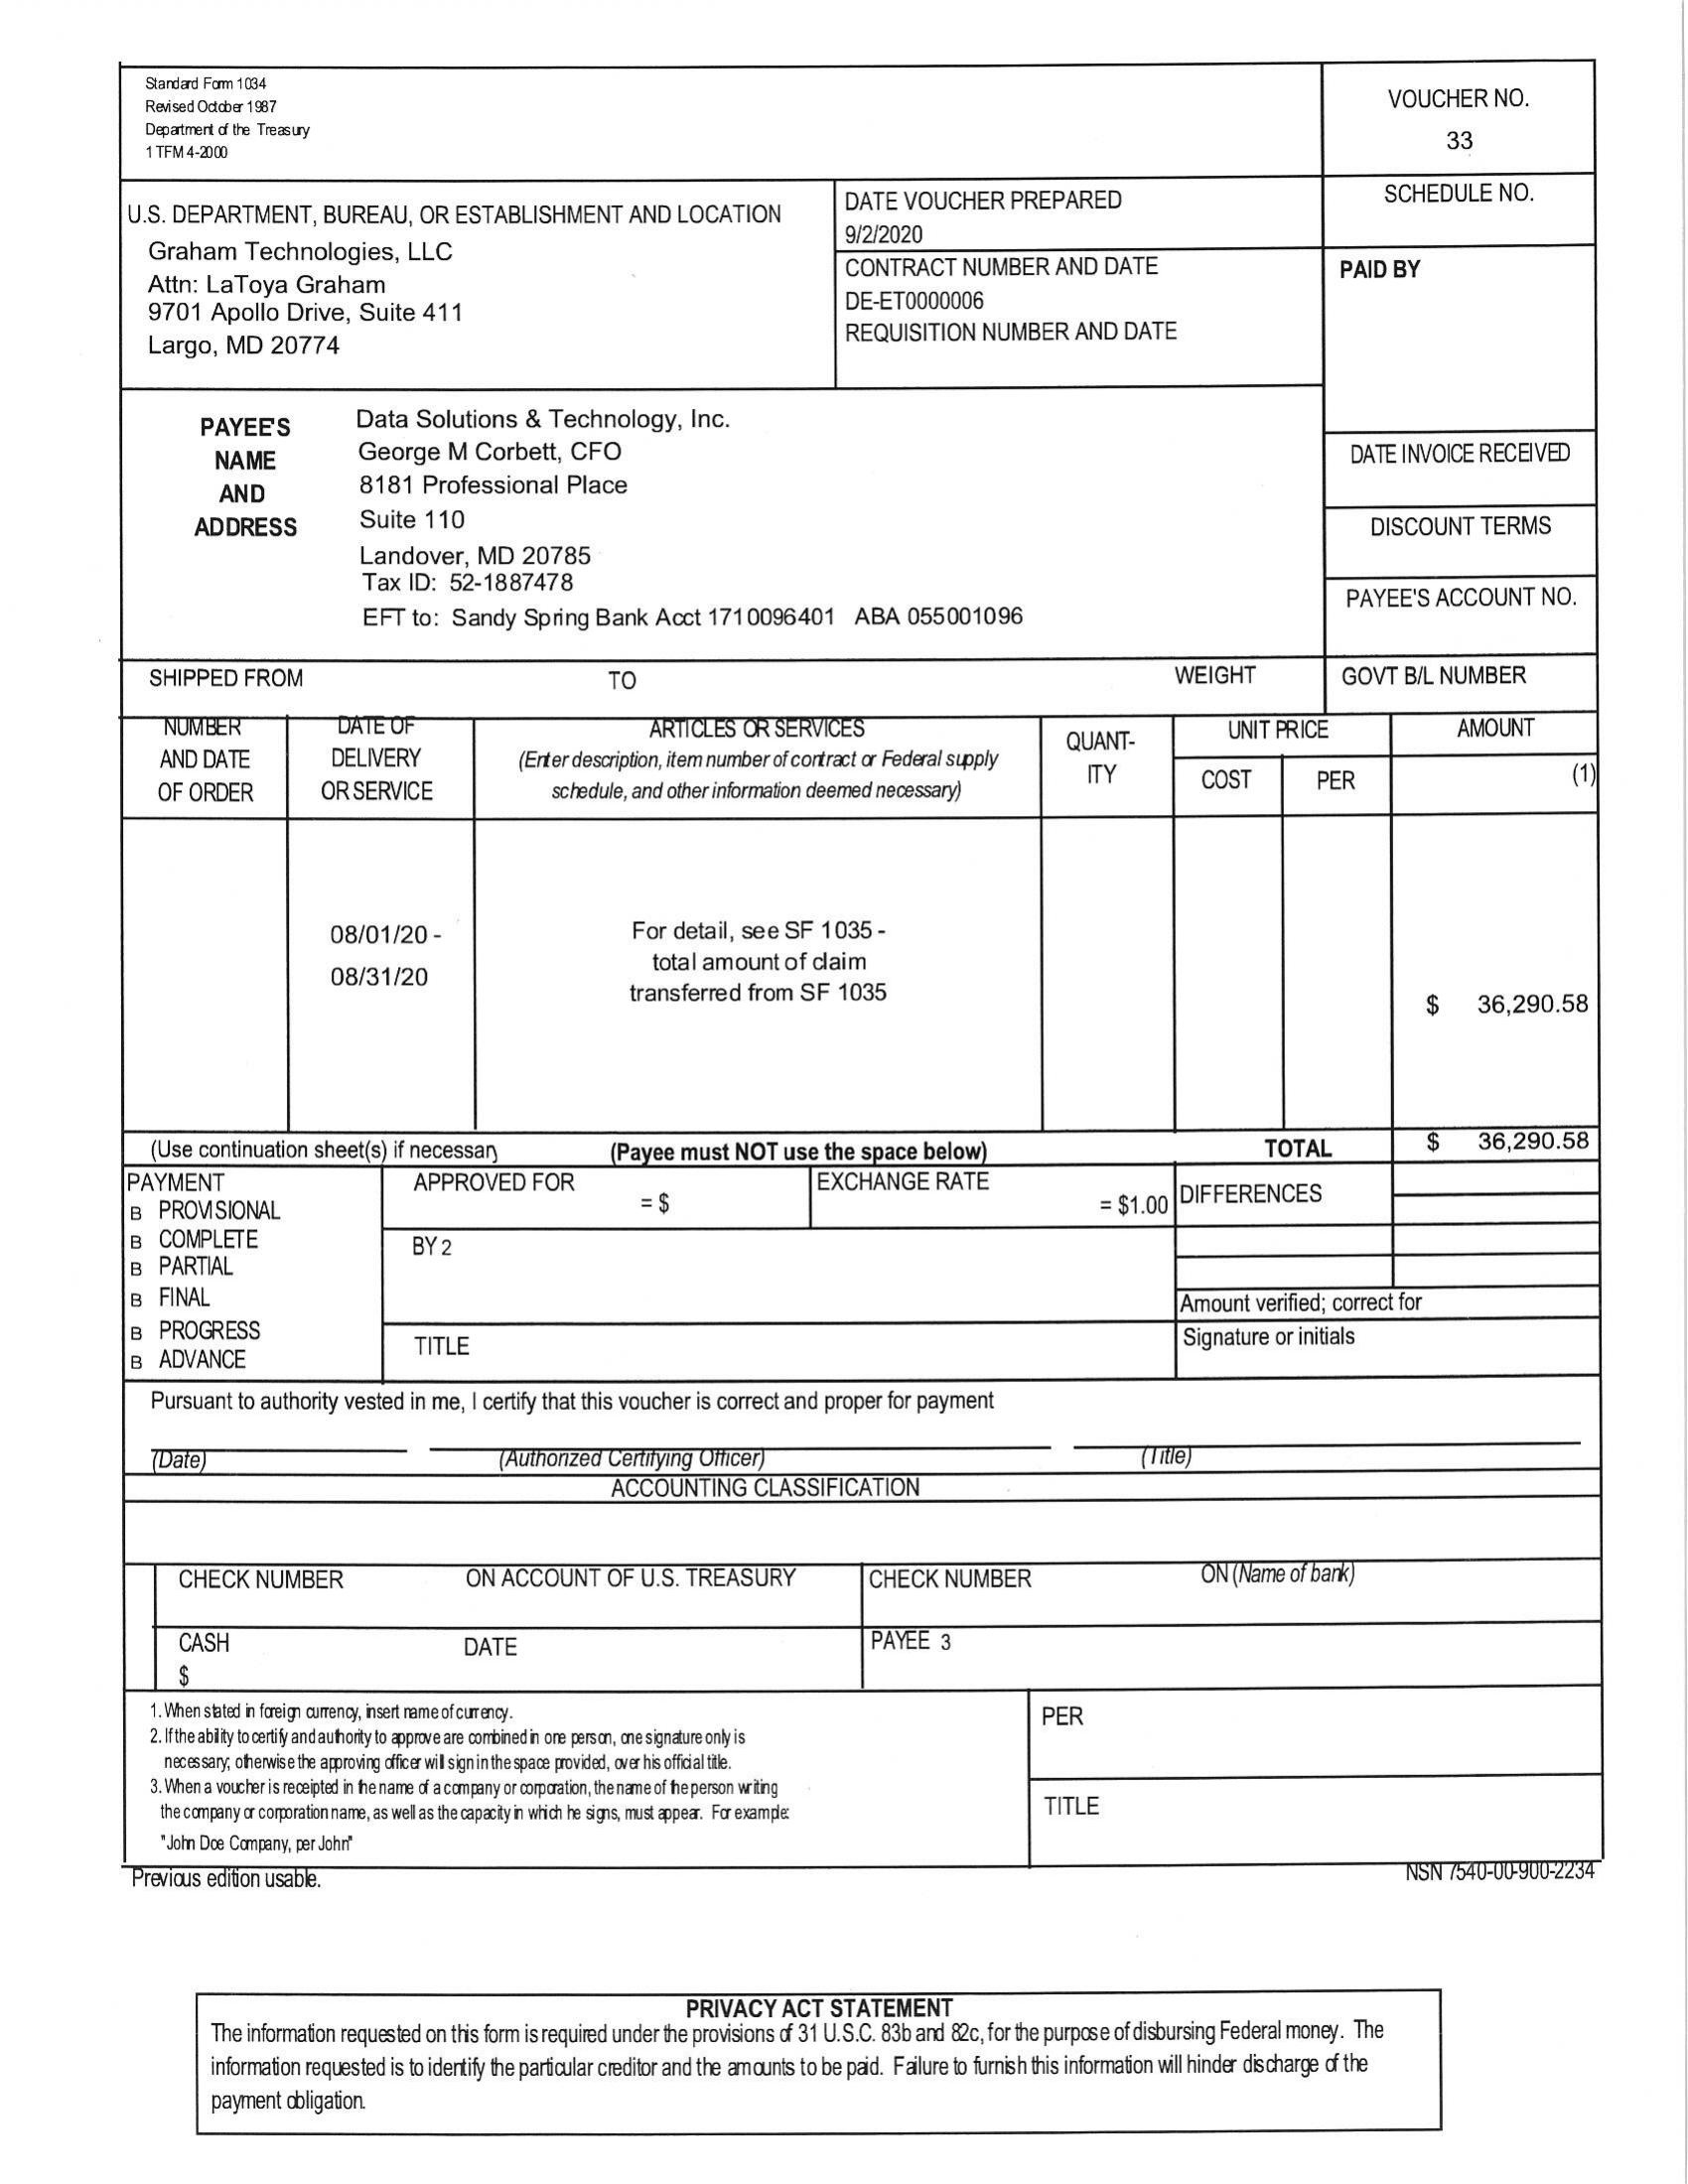table: (113, 714, 1605, 1131)
